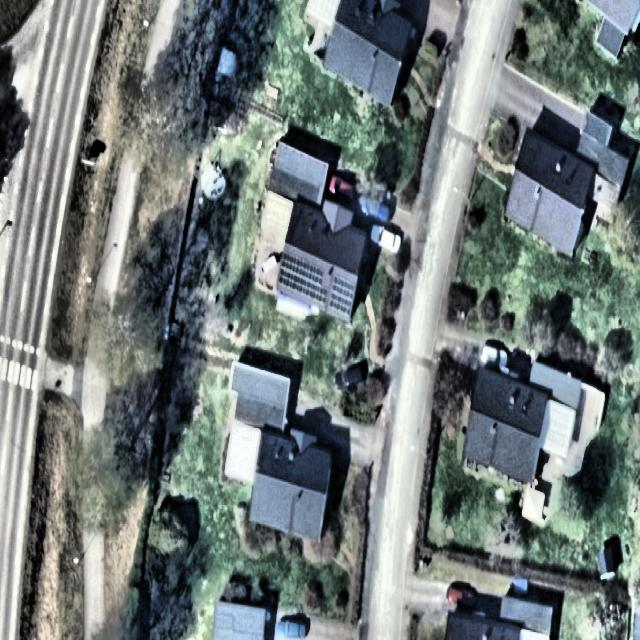roof_pv: (280, 256, 327, 305), (328, 278, 355, 314)
